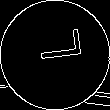L_W: (28, 37, 82, 73)
